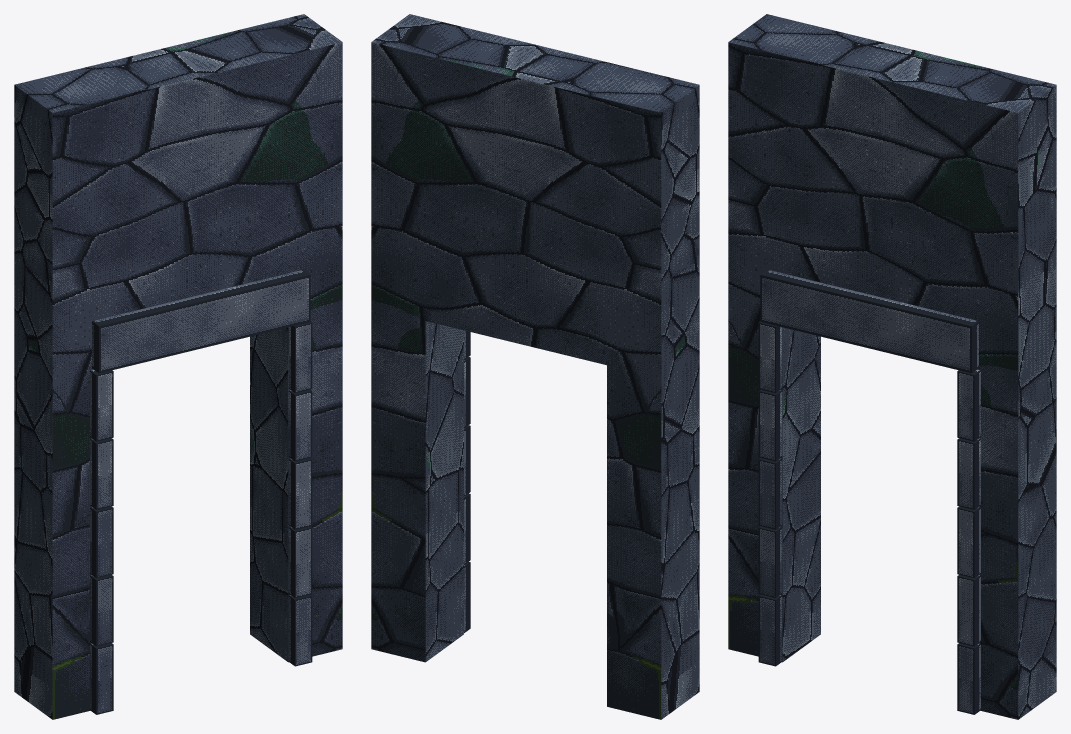
The model's file is SM_Env_WallDoorway_2x4.glb.
3 renders of one model, left to right at view 1: azimuth 30°, elevation 25°; view 2: azimuth 150°, elevation 25°; view 3: azimuth 330°, elevation 25°, orthographic.
Visible parts, largest first — view 1: joint_2, joint_0, joint_1, lintel, jamb_1_1, jamb_1_3, jamb_1_0, jamb_1_2, jamb_1_4, jamb_-1_3, jamb_-1_0, jamb_-1_2 (+2 smaller); view 2: joint_2, joint_0, joint_1; view 3: joint_2, joint_1, joint_0, lintel, jamb_-1_1, jamb_-1_3, jamb_-1_0, jamb_-1_2, jamb_-1_4, jamb_1_3, jamb_1_0, jamb_1_2 (+2 smaller).
Part boxes in pixels (x1,y1,x2,y2): joint_2: (14,14,342,378); joint_0: (14,350,93,719); joint_1: (250,308,342,662); lintel: (92,269,310,373); jamb_1_1: (288,526,312,598); jamb_1_3: (288,389,312,461); jamb_1_0: (288,594,312,666); jamb_1_2: (288,458,312,529); jamb_1_4: (288,322,312,393); jamb_-1_3: (90,438,113,509); jamb_-1_0: (90,643,113,714); jamb_-1_2: (90,506,113,578); joint_2: (371,14,699,378); joint_0: (607,350,699,719); joint_1: (371,308,463,662); joint_2: (728,14,1056,378); joint_1: (977,350,1056,719); joint_0: (728,308,820,662); lintel: (760,269,978,373); jamb_-1_1: (758,526,782,598); jamb_-1_3: (758,389,782,461); jamb_-1_0: (758,594,782,666); jamb_-1_2: (758,458,782,529); jamb_-1_4: (758,322,782,393); jamb_1_3: (957,438,980,509); jamb_1_0: (957,643,980,714); jamb_1_2: (957,506,980,578).
Bounding box in the file's own units: 2 × 4 × 0.546.
1 material, 1 textured.
